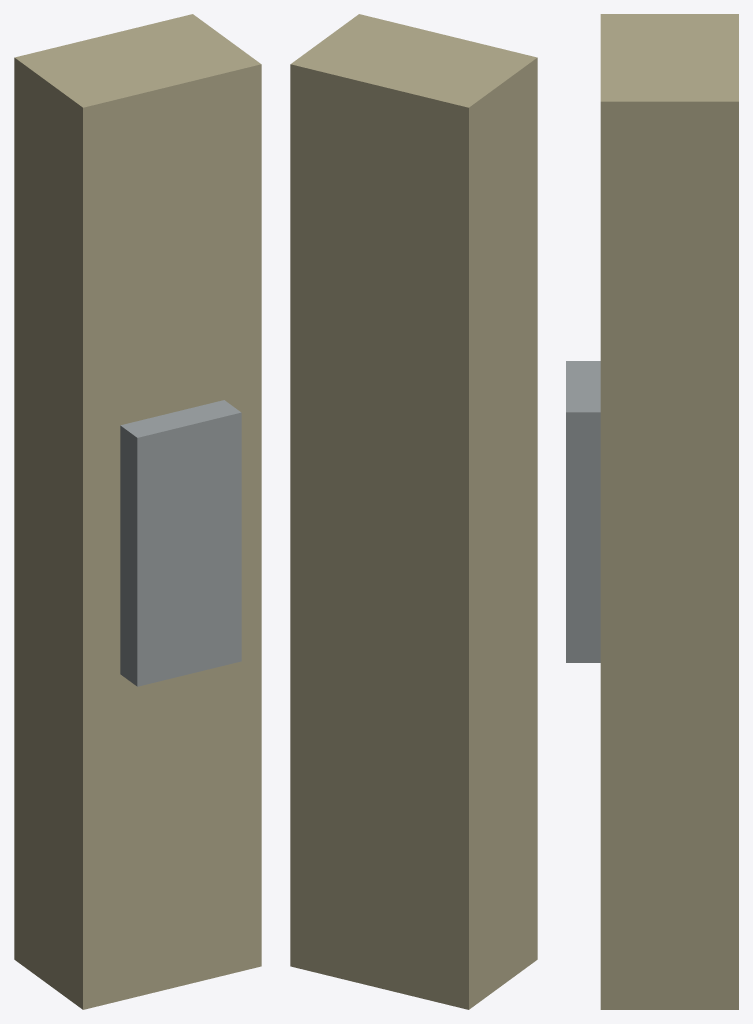
File: panel_busbar.glb
3 views of the same model, side by side, from view 1: azimuth 30°, elevation 25°; view 2: azimuth 150°, elevation 25°; view 3: azimuth 270°, elevation 25° (orthographic).
Visible parts, largest first — view 1: copper bar, terminal; view 2: copper bar; view 3: copper bar, terminal.
Part boxes in pixels (x1=…): copper bar: x1=14, y1=14, x2=261, y2=1009; terminal: x1=120, y1=400, x2=241, y2=686; copper bar: x1=290, y1=14, x2=537, y2=1009; copper bar: x1=600, y1=14, x2=738, y2=1009; terminal: x1=566, y1=361, x2=600, y2=662.
Size of the model in its own units: 0.06 by 0.29 by 0.05.
